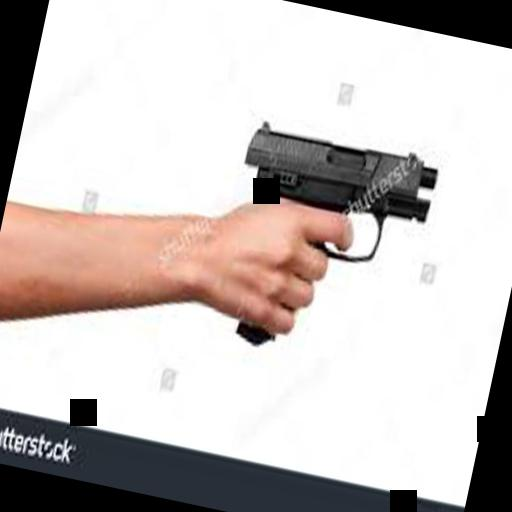Handgun: (201, 108, 441, 382)
